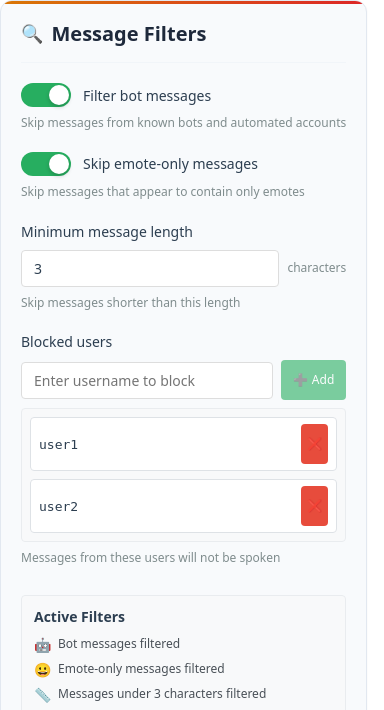
FilterControls › Blocked Users Management › removes user from blocked list when remove button is clicked
This screenshot has width=384, height=710.
Click the button titled "Remove user1 from blocked list" in the row of "user1". click: (315, 444)
box: [301,424,328,464]
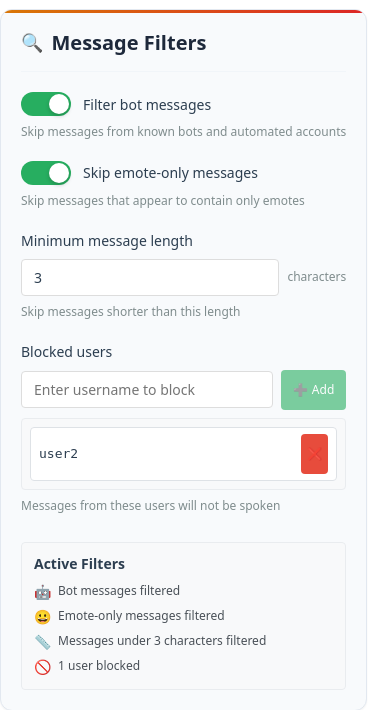
Check: the text "user2" is shown, box [39,444,78,463]
Check: the text "user1" is gone
